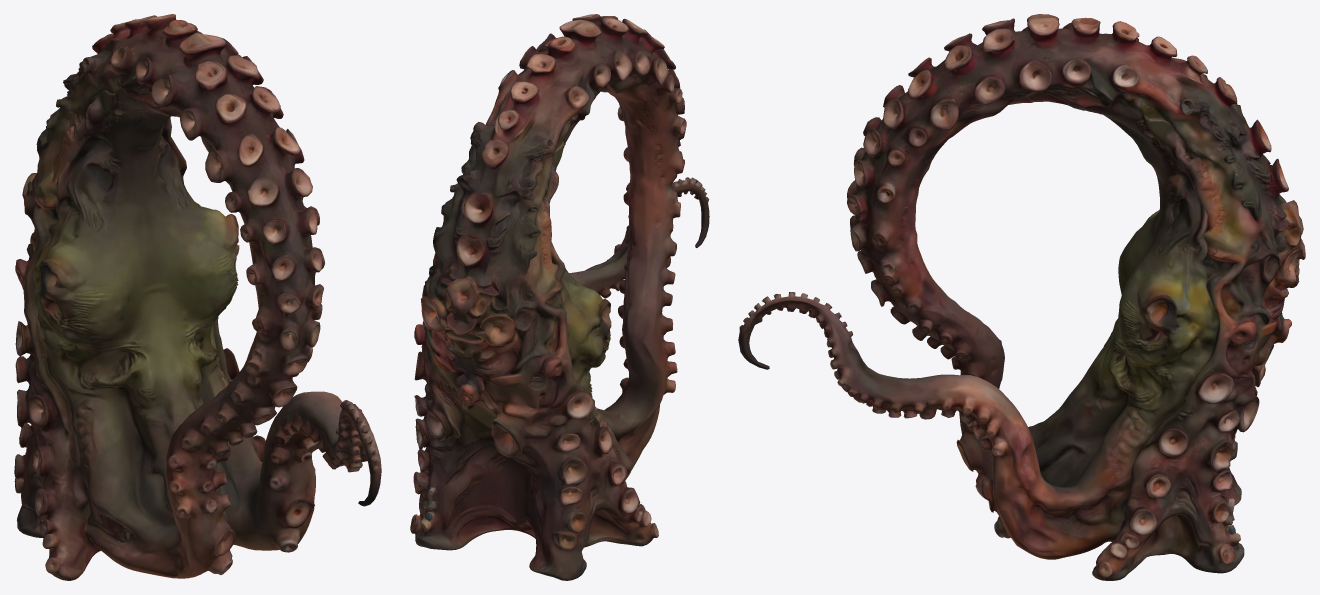
File: abyss-tentacle.glb
3 renders of one model, left to right at view 1: azimuth 30°, elevation 25°; view 2: azimuth 150°, elevation 25°; view 3: azimuth 270°, elevation 25°, orthographic. The views are drawn at different scales.
Visible parts, largest first — view 1: tripo_node_2e1ea6a1-5001-43ff-9e51-a9320c50b275; view 2: tripo_node_2e1ea6a1-5001-43ff-9e51-a9320c50b275; view 3: tripo_node_2e1ea6a1-5001-43ff-9e51-a9320c50b275.
Part boxes in pixels (bbox=[...]): tripo_node_2e1ea6a1-5001-43ff-9e51-a9320c50b275: bbox=[14, 14, 381, 580]; tripo_node_2e1ea6a1-5001-43ff-9e51-a9320c50b275: bbox=[410, 14, 709, 580]; tripo_node_2e1ea6a1-5001-43ff-9e51-a9320c50b275: bbox=[738, 14, 1305, 580].
Size of the model in its own units: 0.4647 by 0.9797 by 0.9799.
Materials: 1 (1 with a texture image).
